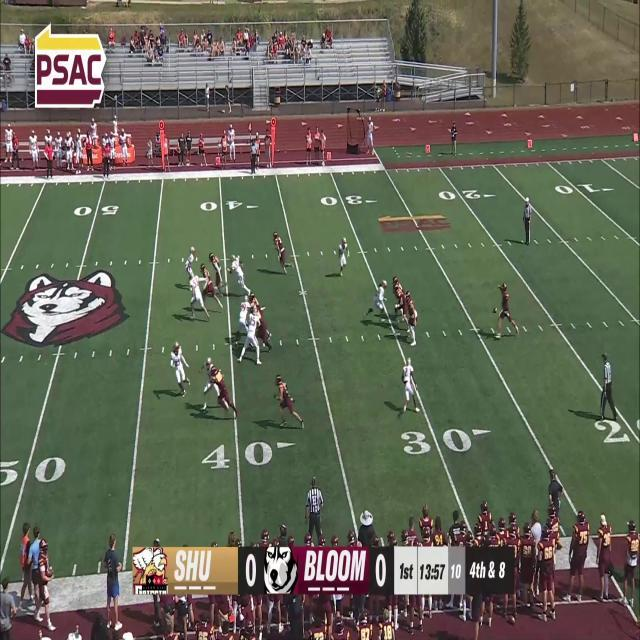football: (492, 308, 498, 314)
